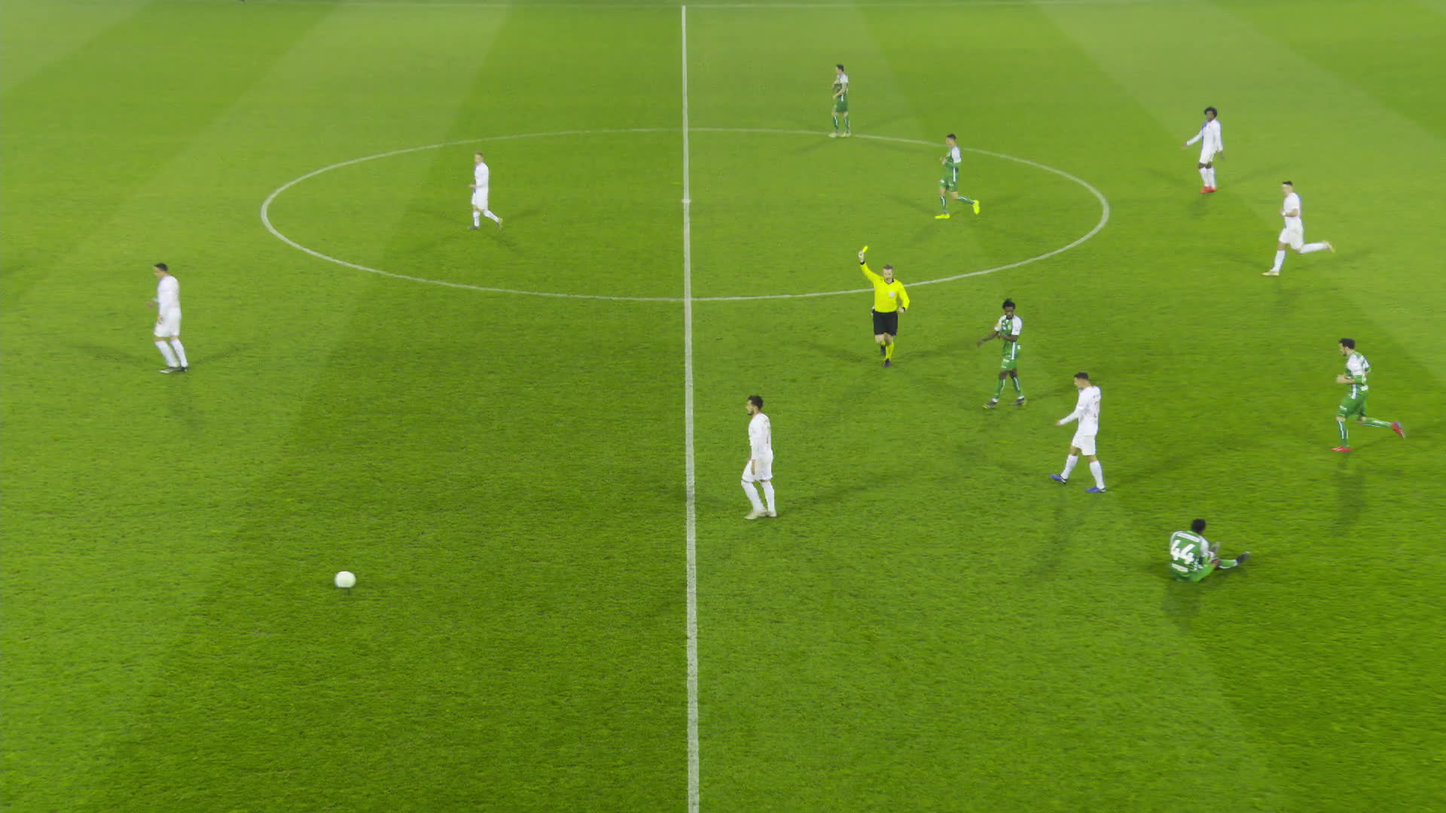ball: (338, 571, 357, 586)
player: (731, 400, 796, 527), (1335, 338, 1400, 454), (1051, 373, 1108, 495), (145, 266, 202, 378), (1268, 181, 1335, 276), (981, 286, 1031, 406), (1163, 517, 1246, 583), (1179, 109, 1228, 197), (936, 135, 976, 222), (460, 151, 502, 230), (820, 61, 856, 140)
referee: (855, 245, 910, 367)
